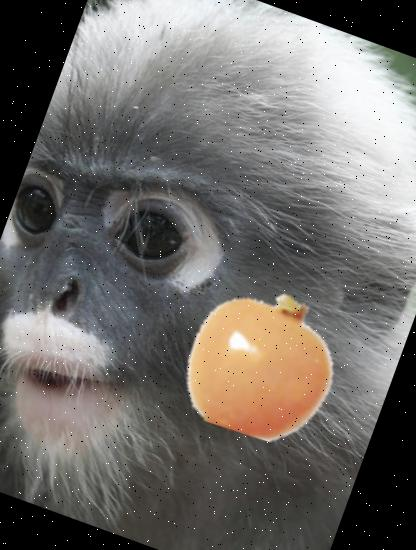Physalis: (168, 266, 360, 458)
